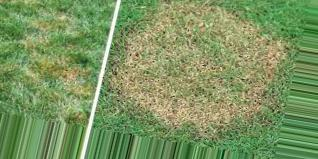patch: (137, 18, 258, 130)
